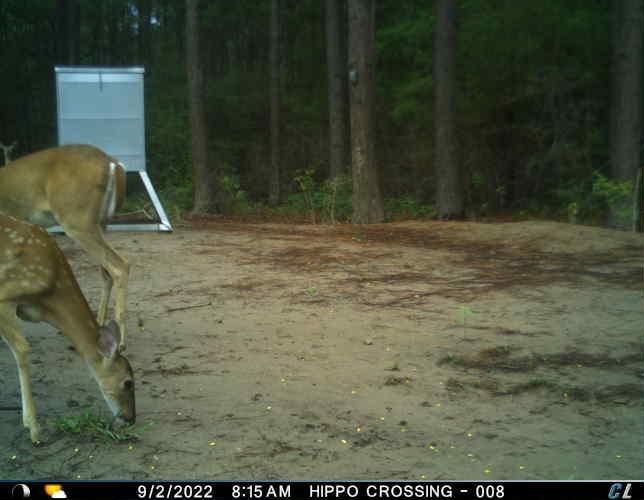Deer: (4, 214, 135, 447), (0, 140, 133, 350)
